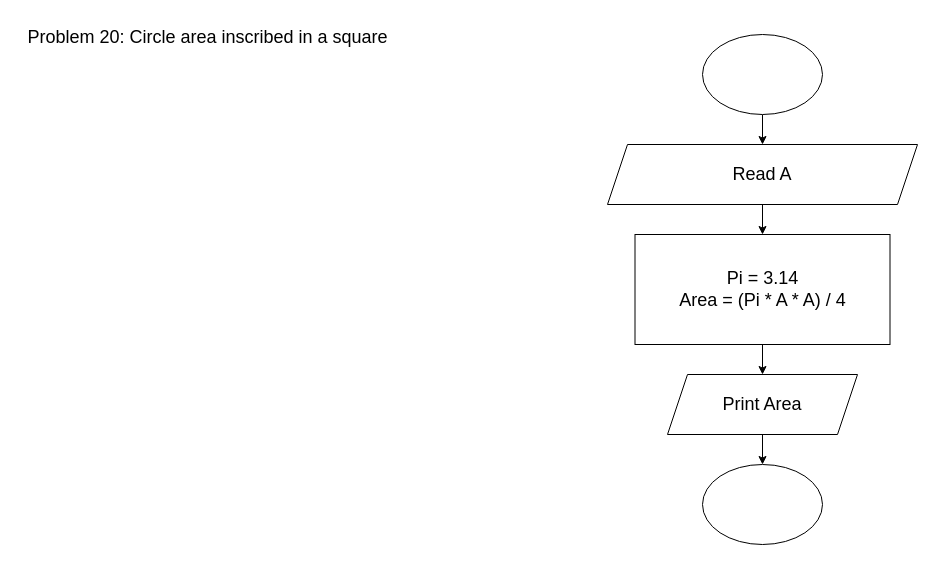
Image size: 935x562. Some labels were removed from this diagram. Each missing label, with the centre of its shape:
End: the point at 762,504
Start: the point at 762,74
